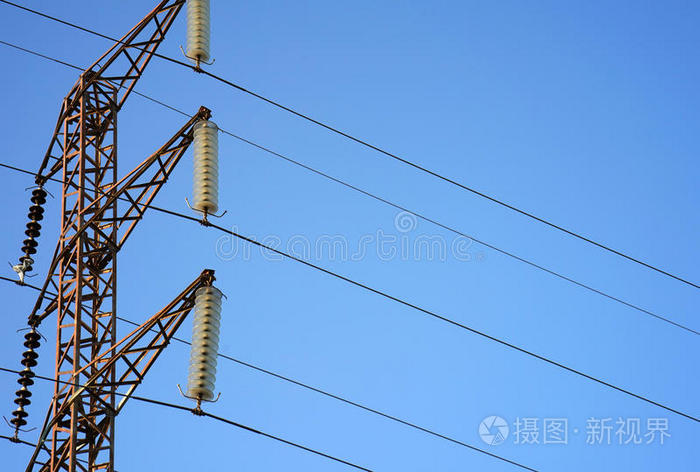insulator: (185, 287, 225, 404), (13, 330, 41, 425), (194, 117, 218, 210), (18, 186, 47, 257), (183, 1, 213, 57)
